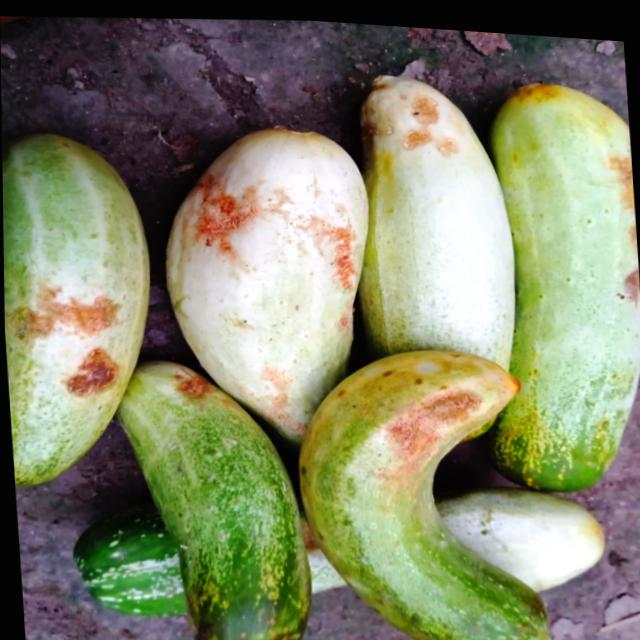Belly-Rot: (7, 270, 138, 409), (373, 367, 488, 488), (354, 71, 469, 161), (187, 165, 269, 269), (315, 208, 367, 331), (605, 140, 640, 302), (260, 360, 301, 433), (170, 361, 216, 410), (294, 506, 321, 557)
